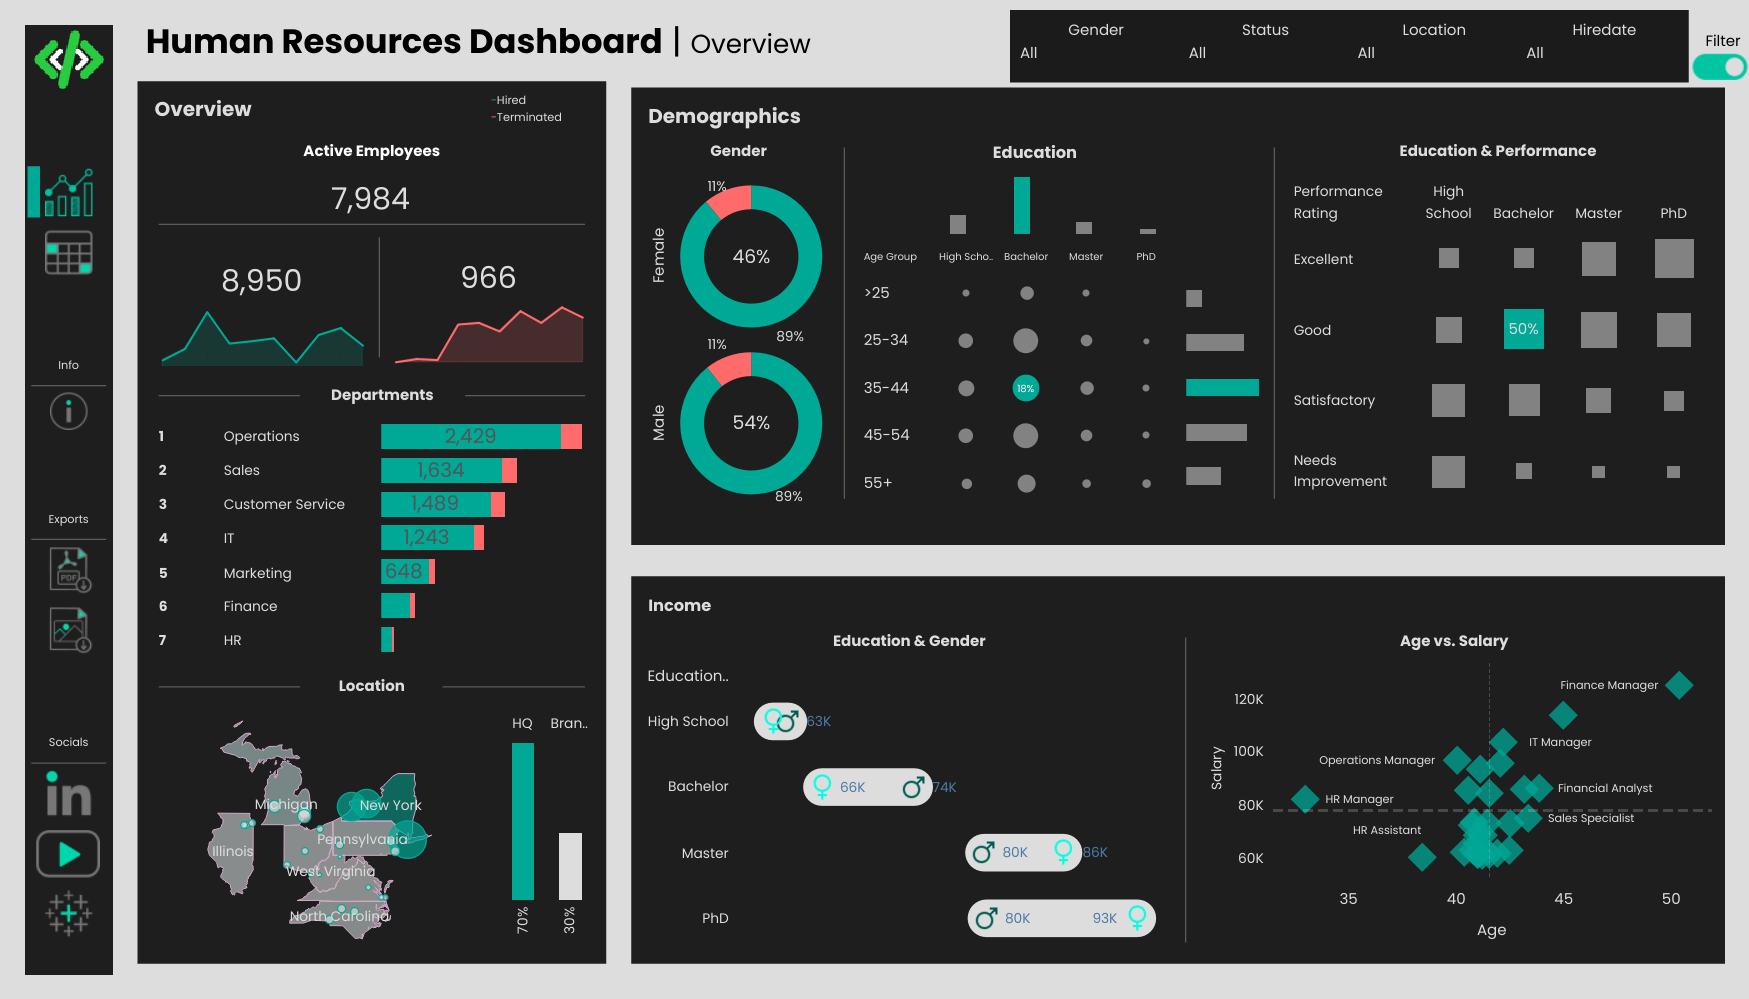

The dashboard page shown, as its layout file describes it:
{"tool":"tableau","page":{"name":"HR Summary","canvas":[1400,800],"ordinal":1},"visuals":[{"type":"blank","box":[90,0,1309,234]},{"type":"text","box":[110,0,932,65]},{"type":"blank","box":[1042,0,338,65]},{"type":"filter","title":"Gender vs Educational Level","param":"[federated.15qs8ti0kxnh4d19tzcrx1v47xtw].[none:Gender:nk]","box":[810,10,135,54]},{"type":"filter","title":"Gender vs Educational Level","param":"[federated.15qs8ti0kxnh4d19tzcrx1v47xtw].[none:Calculation_1474928891721293824:n","box":[945,10,135,54]},{"type":"filter","title":"Gender vs Educational Level","param":"[federated.15qs8ti0kxnh4d19tzcrx1v47xtw].[none:Calculation_1550364182974193668:n","box":[1080,10,135,54]},{"type":"filter","title":"Gender vs Educational Level","param":"[federated.15qs8ti0kxnh4d19tzcrx1v47xtw].[yr:Hiredate:ok]","box":[1215,10,134,54]},{"type":"image","param":"Image/white2.png","box":[20,20,70,55]},{"type":"dashboard-object","box":[1354,25,45,57]},{"type":"text","box":[390,67,93,39]},{"type":"text","box":[117,72,361,36]},{"type":"blank","box":[20,75,70,60]},{"type":"text","box":[512,77,861,36]},{"type":"text","box":[117,108,361,36]},{"type":"text","box":[512,113,158,29]},{"type":"blank","box":[675,113,1,301]},{"type":"text","box":[681,113,333,32]},{"type":"blank","box":[1019,113,1,301]},{"type":"text","box":[1025,113,348,29]},{"type":"blank","box":[22,133,10,41]},{"type":"dashboard-object","box":[20,135,70,38]},{"type":"worksheet","title":"GenderRatio","mark":"Pie","rows":["Gender"],"cols":["Calculation_1550364183007584264","Calculation_1550364183007584264"],"box":[512,142,158,272]},{"type":"worksheet","title":"Education v Performance","mark":"Square","rows":["Performance Rating"],"cols":["Education Level"],"box":[1025,142,348,272]},{"type":"worksheet","title":"BAN Active","mark":"Text","box":[117,144,361,40]},{"type":"worksheet","title":"Education Level","mark":"Bar","rows":["Calculation_416864449352683520"],"cols":["Education Level"],"box":[681,145,333,56]},{"type":"blank","box":[20,173,70,10]},{"type":"dashboard-object","box":[20,183,70,38]},{"type":"blank","box":[117,184,361,1]},{"type":"text","box":[117,185,186,29]},{"type":"blank","box":[303,185,1,116]},{"type":"text","box":[304,185,173.9,29]},{"type":"worksheet","title":"Avg vs Education","mark":"Circle","rows":["Calculation_1550364183028985867"],"cols":["Education Level"],"box":[681,201,264,213]},{"type":"worksheet","title":"Age Groups","mark":"Bar","rows":["Calculation_1550364183028985867"],"cols":["Calculation_416864449352683520"],"box":[945,201,69,213]},{"type":"worksheet","title":"BAN Hired","mark":"Text","box":[117,214,186,36]},{"type":"worksheet","title":"BAN Terminated","mark":"Text","box":[304,214,173.9,32]},{"type":"blank","box":[20,221,70,60]},{"type":"text","box":[90,234,1309,310]},{"type":"worksheet","title":"Terminated By Year","mark":"Line","rows":["Calculation_416864449352806401","Calculation_416864449352806401"],"cols":["Termdate"],"box":[304,246,173.9,55]},{"type":"worksheet","title":"Hired By Year","mark":"Line","rows":["Calculation_416864449352683520","Calculation_416864449352683520"],"cols":["Hiredate"],"box":[117,250,186,51]},{"type":"text","box":[20,281,70,25]},{"type":"blank","box":[20,306,70,11]},{"type":"blank","box":[117,306,123,30]},{"type":"text","box":[240,306,132,30]},{"type":"blank","box":[372,306,106,30]},{"type":"dashboard-object","box":[20,317,70,30]},{"type":"worksheet","title":"Dept","mark":"Bar","rows":["Department"],"cols":["Calculation_416864449352683520"],"box":[117,336,361,193]},{"type":"blank","box":[20,347,70,60]},{"type":"text","box":[20,407,70,25]},{"type":"blank","box":[20,432,70,11]},{"type":"dashboard-object","box":[20,443,70,38]},{"type":"text","box":[512,468,861,32]},{"type":"blank","box":[20,481,70,10]},{"type":"dashboard-object","box":[20,491,70,38]},{"type":"text","box":[512,500,427,29]},{"type":"blank","box":[944,500,1,264]},{"type":"text","box":[950,500,423,29]},{"type":"blank","box":[20,529,70,60]},{"type":"worksheet","title":"Gender vs Educational Level","mark":"Square","rows":["Education Level"],"cols":["Salary","Salary"],"box":[512,529,427,235]},{"type":"worksheet","title":"Age vs Salary","mark":"Shape","rows":["Salary"],"cols":["Calculation_1550364183022788618"],"box":[950,529,423,235]},{"type":"blank","box":[117,534,123,30]},{"type":"text","box":[240,534,115,30]},{"type":"blank","box":[355,534,123,30]},{"type":"blank","box":[90,544,1309,256]},{"type":"worksheet","title":"Map States","mark":"Automatic","box":[117,564,278,200]},{"type":"worksheet","title":"Location","mark":"Bar","rows":["Calculation_416864449352683520"],"cols":["Calculation_1550364182974193668","Calculation1"],"box":[395,564,83,200]},{"type":"text","box":[20,589,70,25]},{"type":"blank","box":[20,614,70,11]},{"type":"image","param":"Image/contact-linkedin.png","box":[20,625,70,38]},{"type":"blank","box":[20,663,70,10]},{"type":"image","param":"Image/contact-channel.png","box":[20,673,70,38]},{"type":"blank","box":[20,711,70,10]},{"type":"image","param":"Image/contact-public.png","box":[20,721,70,38]}]}

Visuals, with their boxes on the page's 1400x800 design canvas (x1, y1, x2, y2). These are canvas units, not pixel positions in the 1749x999 screenshot, which may show the page scaled, cropped or inside an application window:
blank: select_region(90, 0, 1399, 234)
text: select_region(110, 0, 1042, 65)
blank: select_region(1042, 0, 1380, 65)
"Gender vs Educational Level" filter: select_region(810, 10, 945, 64)
"Gender vs Educational Level" filter: select_region(945, 10, 1080, 64)
"Gender vs Educational Level" filter: select_region(1080, 10, 1215, 64)
"Gender vs Educational Level" filter: select_region(1215, 10, 1349, 64)
image: select_region(20, 20, 90, 75)
dashboard-object: select_region(1354, 25, 1399, 82)
text: select_region(390, 67, 483, 106)
text: select_region(117, 72, 478, 108)
blank: select_region(20, 75, 90, 135)
text: select_region(512, 77, 1373, 113)
text: select_region(117, 108, 478, 144)
text: select_region(512, 113, 670, 142)
blank: select_region(675, 113, 676, 414)
text: select_region(681, 113, 1014, 145)
blank: select_region(1019, 113, 1020, 414)
text: select_region(1025, 113, 1373, 142)
blank: select_region(22, 133, 32, 174)
dashboard-object: select_region(20, 135, 90, 173)
"GenderRatio" worksheet (Pie marks): select_region(512, 142, 670, 414)
"Education v Performance" worksheet (Square marks): select_region(1025, 142, 1373, 414)
"BAN Active" worksheet (Text marks): select_region(117, 144, 478, 184)
"Education Level" worksheet (Bar marks): select_region(681, 145, 1014, 201)
blank: select_region(20, 173, 90, 183)
dashboard-object: select_region(20, 183, 90, 221)
blank: select_region(117, 184, 478, 185)
text: select_region(117, 185, 303, 214)
blank: select_region(303, 185, 304, 301)
text: select_region(304, 185, 478, 214)
"Avg vs Education" worksheet (Circle marks): select_region(681, 201, 945, 414)
"Age Groups" worksheet (Bar marks): select_region(945, 201, 1014, 414)
"BAN Hired" worksheet (Text marks): select_region(117, 214, 303, 250)
"BAN Terminated" worksheet (Text marks): select_region(304, 214, 478, 246)
blank: select_region(20, 221, 90, 281)
text: select_region(90, 234, 1399, 544)
"Terminated By Year" worksheet (Line marks): select_region(304, 246, 478, 301)
"Hired By Year" worksheet (Line marks): select_region(117, 250, 303, 301)
text: select_region(20, 281, 90, 306)
blank: select_region(20, 306, 90, 317)
blank: select_region(117, 306, 240, 336)
text: select_region(240, 306, 372, 336)
blank: select_region(372, 306, 478, 336)
dashboard-object: select_region(20, 317, 90, 347)
"Dept" worksheet (Bar marks): select_region(117, 336, 478, 529)
blank: select_region(20, 347, 90, 407)
text: select_region(20, 407, 90, 432)
blank: select_region(20, 432, 90, 443)
dashboard-object: select_region(20, 443, 90, 481)
text: select_region(512, 468, 1373, 500)
blank: select_region(20, 481, 90, 491)
dashboard-object: select_region(20, 491, 90, 529)
text: select_region(512, 500, 939, 529)
blank: select_region(944, 500, 945, 764)
text: select_region(950, 500, 1373, 529)
blank: select_region(20, 529, 90, 589)
"Gender vs Educational Level" worksheet (Square marks): select_region(512, 529, 939, 764)
"Age vs Salary" worksheet (Shape marks): select_region(950, 529, 1373, 764)
blank: select_region(117, 534, 240, 564)
text: select_region(240, 534, 355, 564)
blank: select_region(355, 534, 478, 564)
blank: select_region(90, 544, 1399, 800)
"Map States" worksheet: select_region(117, 564, 395, 764)
"Location" worksheet (Bar marks): select_region(395, 564, 478, 764)
text: select_region(20, 589, 90, 614)
blank: select_region(20, 614, 90, 625)
image: select_region(20, 625, 90, 663)
blank: select_region(20, 663, 90, 673)
image: select_region(20, 673, 90, 711)
blank: select_region(20, 711, 90, 721)
image: select_region(20, 721, 90, 759)
